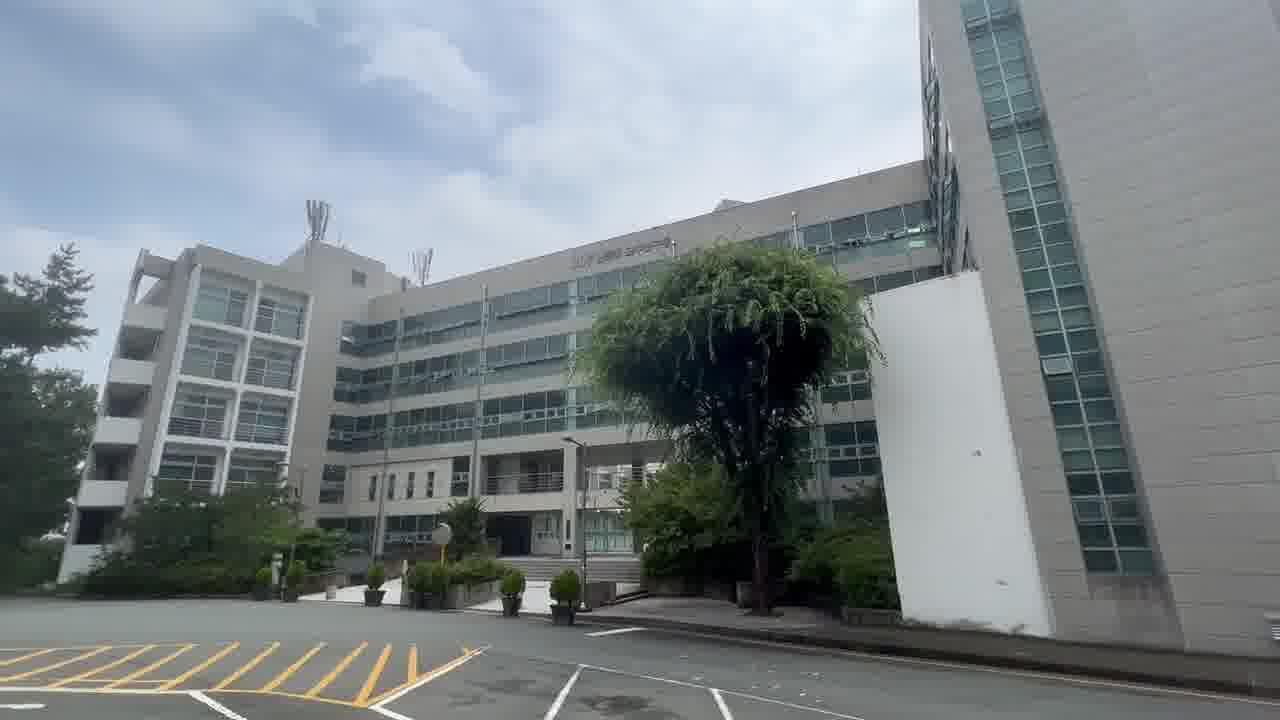building: (101, 193, 598, 477)
